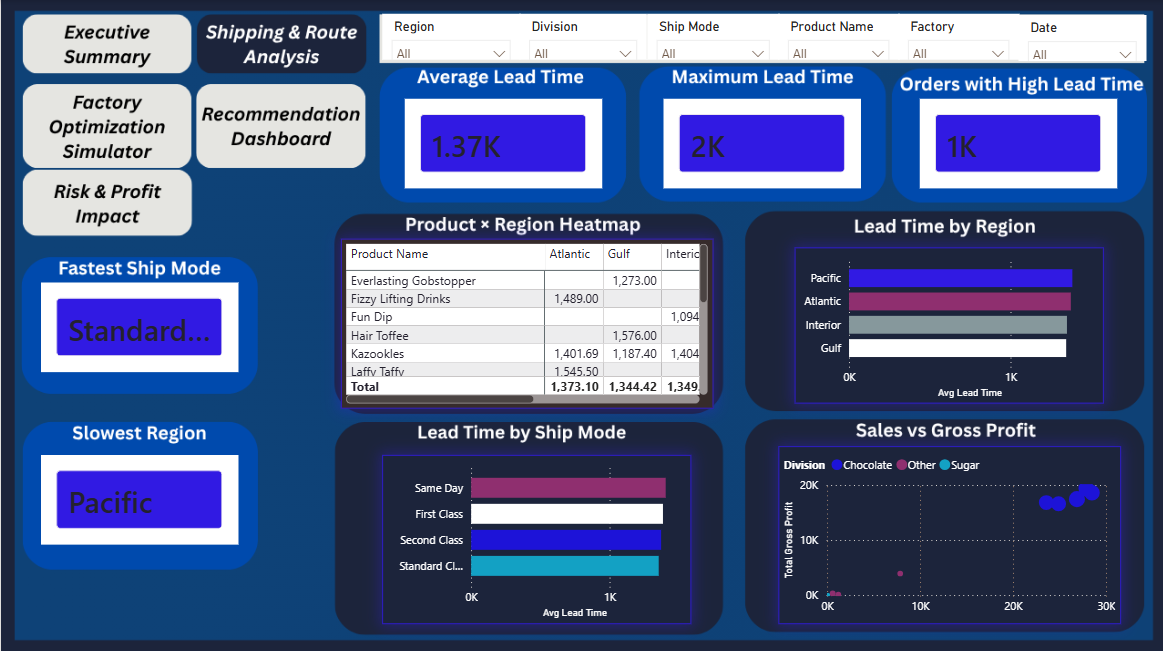

This screenshot's page, from the dashboard's own definition file:
{"tool":"powerbi","page":{"name":"Shipping & Route Analysis","canvas":[1280,720],"ordinal":2},"visuals":[{"type":"slicer","fields":{"Values":["Nassau_Candy_Cleaned (2).Product Name"]},"box":[853.5,15.1,131.7,50.8],"z":0},{"type":"slicer","fields":{"Values":["Nassau_Candy_Cleaned (2).Ship Mode"]},"box":[709.4,15.1,144.1,50.8],"z":1000},{"type":"slicer","fields":{"Values":["Nassau_Candy_Cleaned (2).Division"]},"box":[569.5,15.1,138.6,50.8],"z":2000},{"type":"slicer","fields":{"Values":["Nassau_Candy_Cleaned (2).Factory"]},"box":[985.3,15.1,131.7,50.8],"z":3000},{"type":"slicer","fields":{"Values":["Dim_Date.Date"]},"box":[1117,16.5,140,50.8],"z":4000},{"type":"cardVisual","fields":{"Data":["Nassau_Candy_Cleaned (2).Avg Lead Time"]},"box":[443.2,108.4,216.8,98.8],"z":5000},{"type":"cardVisual","fields":{"Data":["Nassau_Candy_Cleaned (2).High Lead Time Orders"]},"box":[1008.6,108.4,216.8,98.8],"z":6000},{"type":"cardVisual","fields":{"Data":["Nassau_Candy_Cleaned (2).Maximum Lead Time"]},"box":[727.3,108.4,216.8,98.8],"z":7000},{"type":"cardVisual","fields":{"Data":["Dim_Date.Fastest Ship Mode"]},"box":[43.9,310.1,216.8,98.8],"z":8000},{"type":"cardVisual","fields":{"Data":["Dim_Date.Slowest Region"]},"box":[43.9,499.5,216.8,98.8],"z":9000},{"type":"pivotTable","fields":{"Values":["Nassau_Candy_Cleaned (2).Avg Lead Time"],"Rows":["Nassau_Candy_Cleaned (2).Product Name"],"Columns":["Nassau_Candy_Cleaned (2).Region"]},"box":[373.2,262.1,408.9,186.6],"z":10000},{"type":"clusteredBarChart","fields":{"Category":["Nassau_Candy_Cleaned (2).Region"],"Y":["Nassau_Candy_Cleaned (2).Avg Lead Time"]},"box":[871.4,271.7,338.9,171.5],"z":11000},{"type":"clusteredBarChart","fields":{"Y":["Nassau_Candy_Cleaned (2).Avg Lead Time"],"Category":["Nassau_Candy_Cleaned (2).Ship Mode"]},"box":[418.5,499.5,338.9,185.2],"z":12000},{"type":"scatterChart","fields":{"X":["Nassau_Candy_Cleaned (2).Total Sales"],"Y":["Nassau_Candy_Cleaned (2).Total Gross Profit"],"Size":["Sum(Nassau_Candy_Cleaned (2).Units)"],"Category":["Nassau_Candy_Cleaned (2).Product Name"],"Series":["Nassau_Candy_Cleaned (2).Division"]},"box":[853.5,489.9,376,194.9],"z":13000},{"type":"slicer","fields":{"Values":["Nassau_Candy_Cleaned (2).Region"]},"box":[418.5,15.1,150.9,50.8],"z":14000},{"type":"actionButton","box":[30.5,183.1,179.9,73.9],"z":15000},{"type":"actionButton","box":[210.4,88.4,192.8,94.8],"z":16000},{"type":"actionButton","box":[17.7,88.4,192.8,94.8],"z":17000},{"type":"actionButton","box":[24.1,14.5,179.9,62.7],"z":18000}]}

Visuals, with their boxes in screenshot pixels (x1, y1, x2, y2), scaled from the page's 1280x720 canvas onto the 1163x651 screenshot:
slicer - Nassau_Candy_Cleaned (2).Product Name: 775 14 895 60
slicer - Nassau_Candy_Cleaned (2).Ship Mode: 645 14 775 60
slicer - Nassau_Candy_Cleaned (2).Division: 517 14 643 60
slicer - Nassau_Candy_Cleaned (2).Factory: 895 14 1015 60
slicer - Dim_Date.Date: 1015 15 1142 61
cardVisual - Nassau_Candy_Cleaned (2).Avg Lead Time: 403 98 600 187
cardVisual - Nassau_Candy_Cleaned (2).High Lead Time Orders: 916 98 1113 187
cardVisual - Nassau_Candy_Cleaned (2).Maximum Lead Time: 661 98 858 187
cardVisual - Dim_Date.Fastest Ship Mode: 40 280 237 370
cardVisual - Dim_Date.Slowest Region: 40 452 237 541
pivotTable - Nassau_Candy_Cleaned (2).Avg Lead Time x Nassau_Candy_Cleaned (2).Product Name: 339 237 711 406
clusteredBarChart - Nassau_Candy_Cleaned (2).Region x Nassau_Candy_Cleaned (2).Avg Lead Time: 792 246 1100 401
clusteredBarChart - Nassau_Candy_Cleaned (2).Avg Lead Time x Nassau_Candy_Cleaned (2).Ship Mode: 380 452 688 619
scatterChart - Nassau_Candy_Cleaned (2).Total Sales x Nassau_Candy_Cleaned (2).Total Gross Profit: 775 443 1117 619
slicer - Nassau_Candy_Cleaned (2).Region: 380 14 517 60
actionButton: 28 166 191 232
actionButton: 191 80 366 166
actionButton: 16 80 191 166
actionButton: 22 13 185 70
